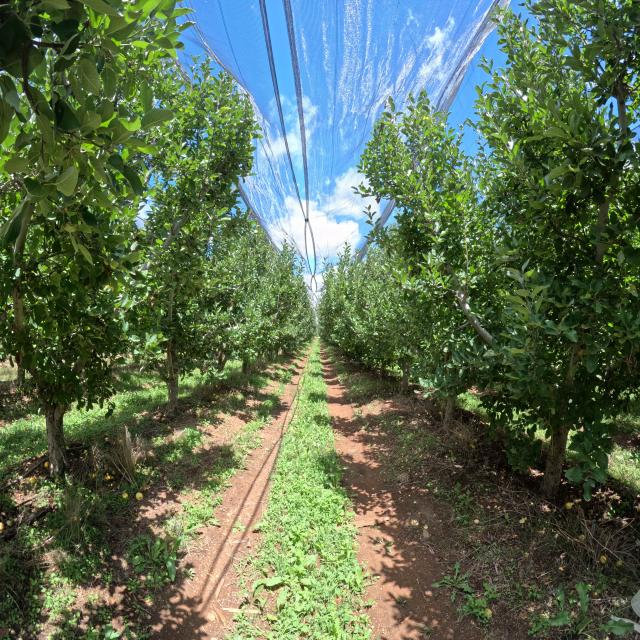-FireBlight-: (626, 348, 638, 375), (210, 349, 222, 364), (150, 291, 156, 307), (204, 363, 209, 373)
